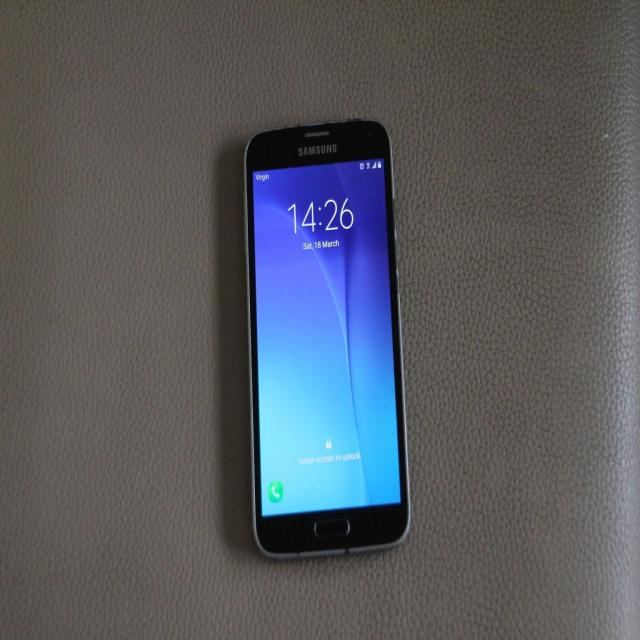Phone: (247, 108, 411, 564)
